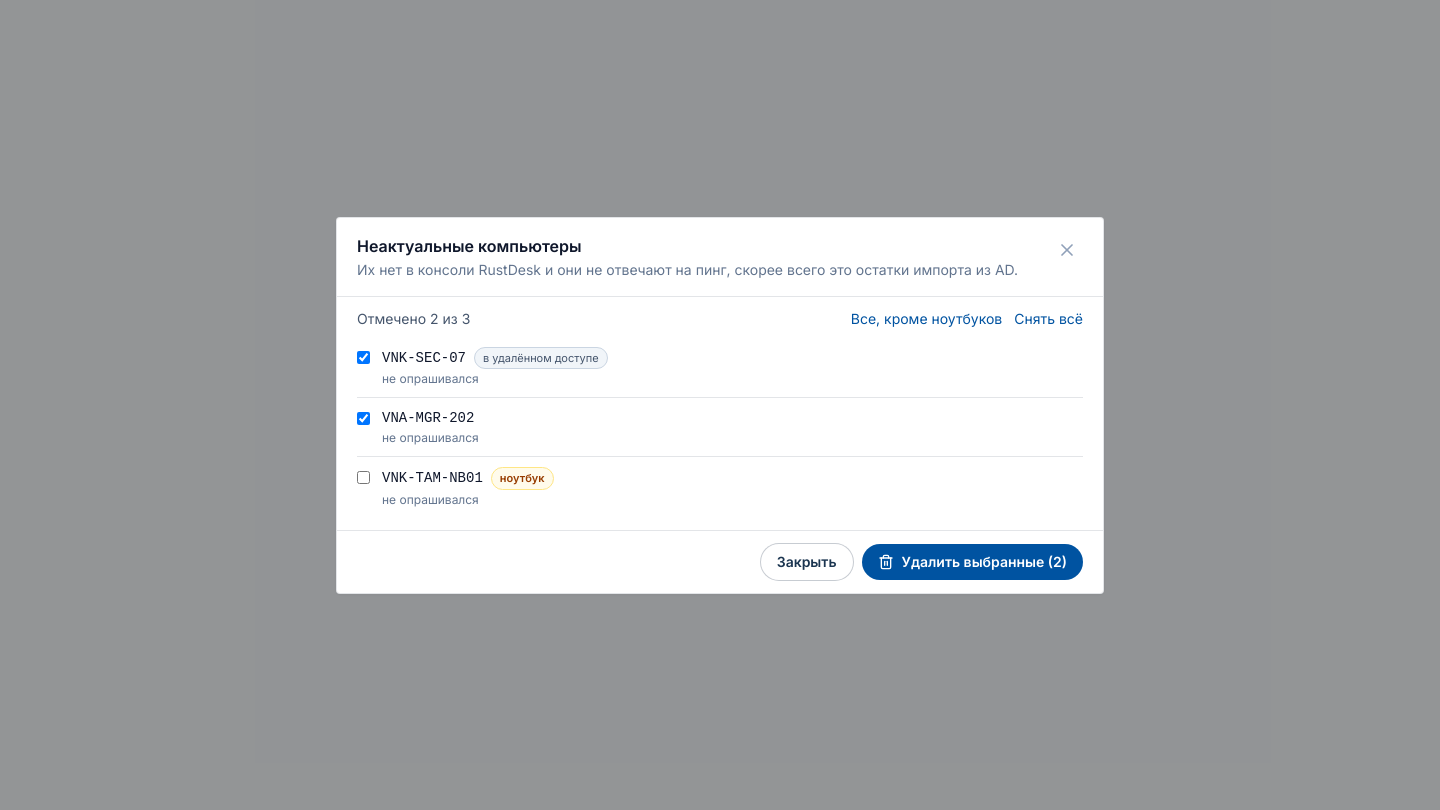
Test: StaleComputersModal › selects all but laptops or nothing on request
The image size is (1440, 810).
expect the text "Отмечено 2 из 3" is shown: met, box x1=357 y1=308 x2=470 y2=328
Step 1. Click the button "Снять всё" → (1049, 318), box x1=1014 y1=308 x2=1083 y2=328
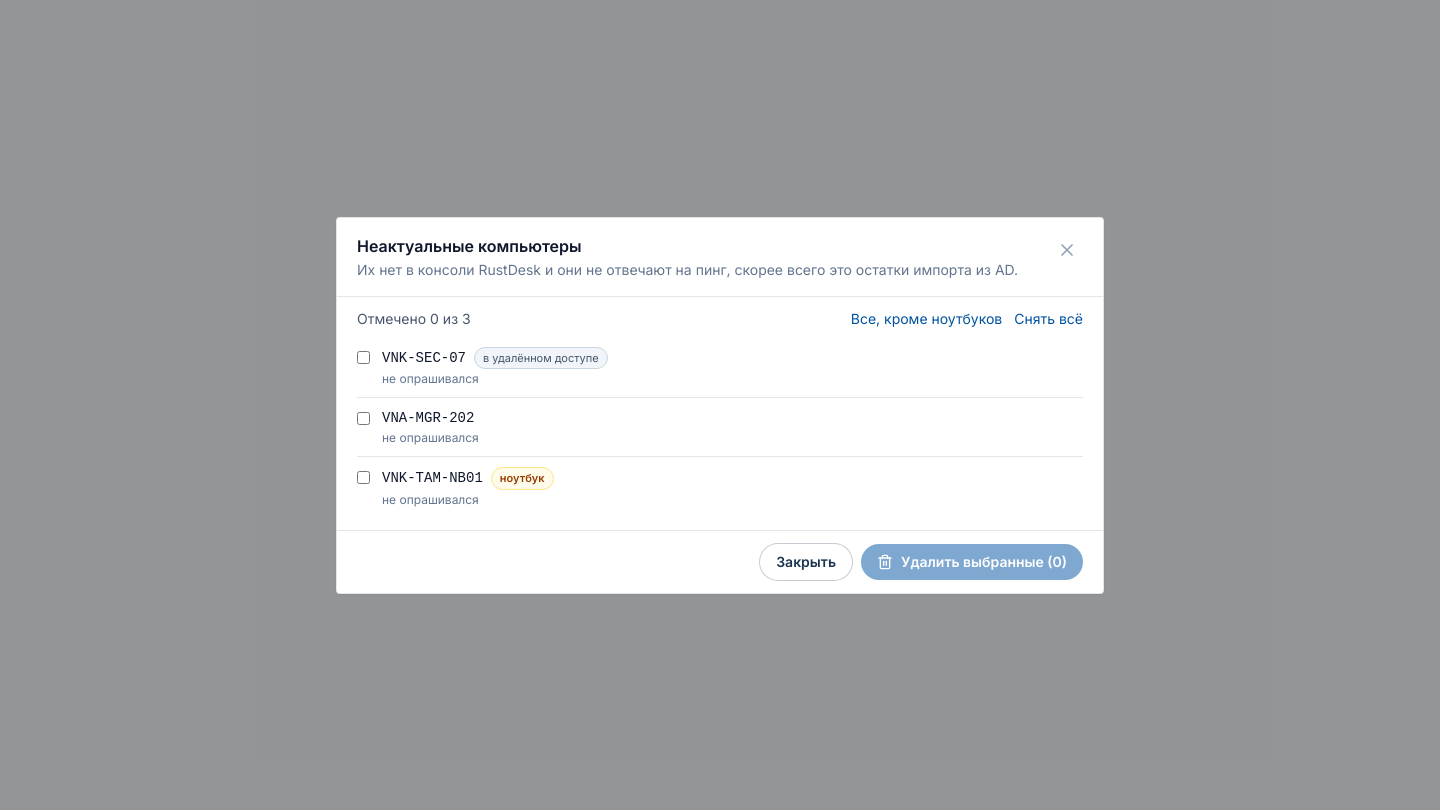
expect the text "Отмечено 0 из 3" is shown: met, box x1=357 y1=308 x2=471 y2=328
expect the button "Удалить выбранные (0)" is disabled: met, box x1=861 y1=544 x2=1083 y2=580
Step 2. Click the button "Все, кроме ноутбуков" → (926, 318), box x1=851 y1=308 x2=1002 y2=328
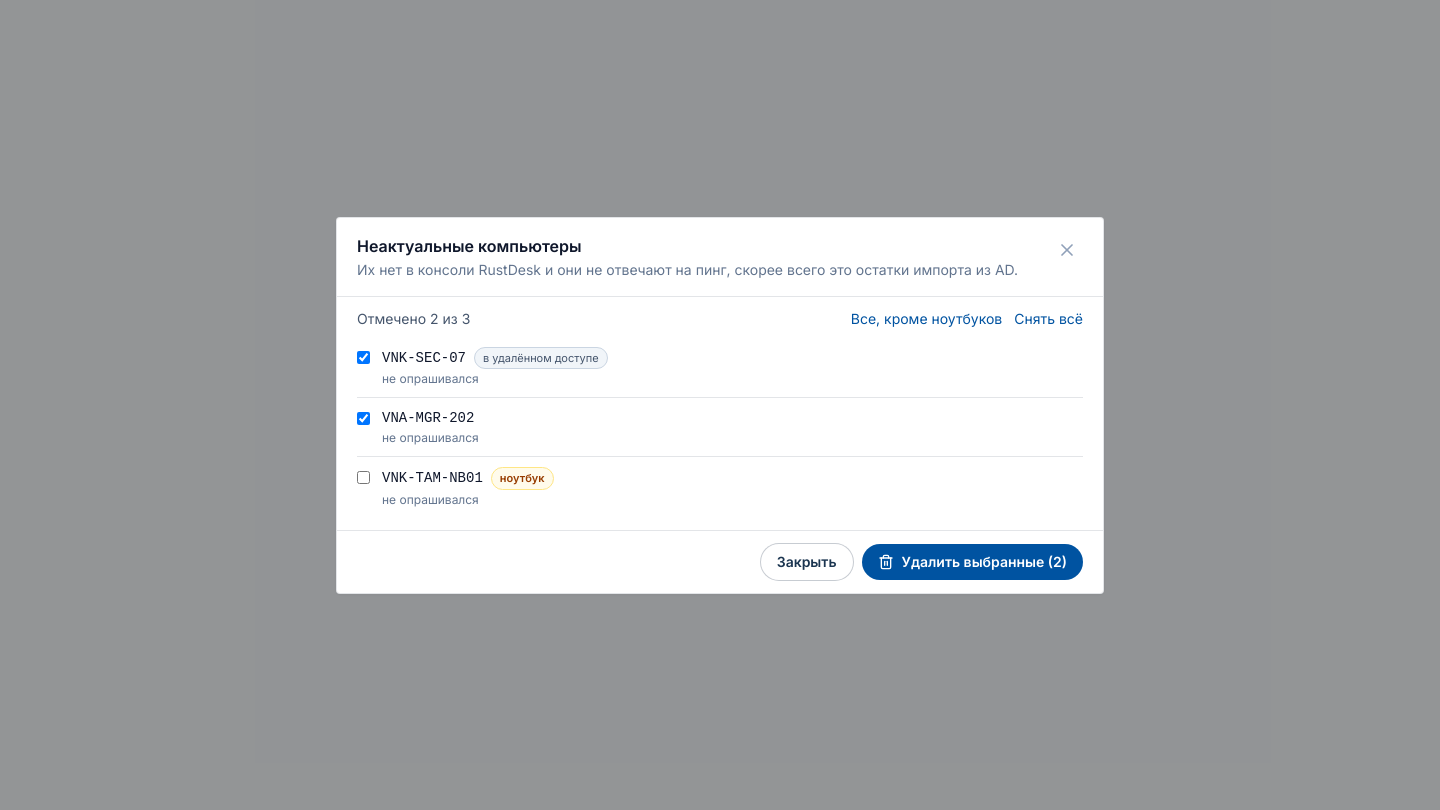
expect the text "Отмечено 2 из 3" is shown: met, box x1=357 y1=308 x2=470 y2=328
